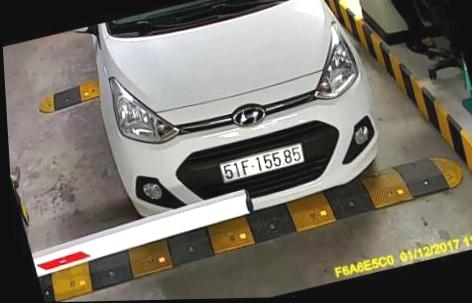License_Plate: (215, 144, 309, 184)
